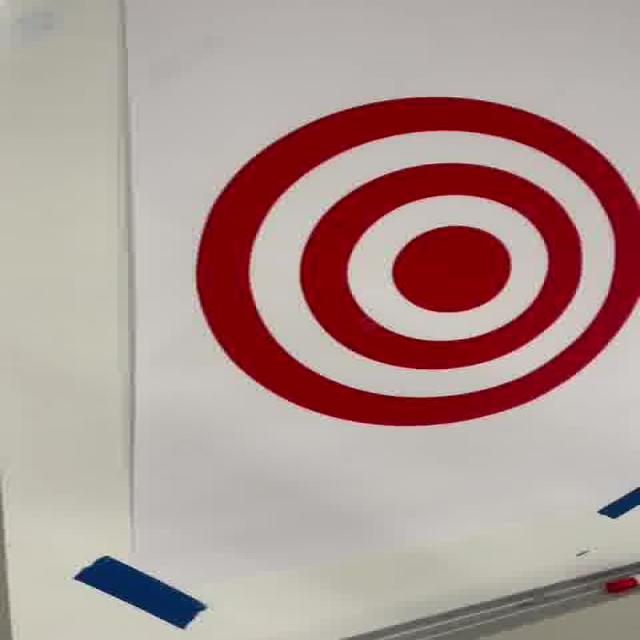target_red: (188, 95, 640, 426)
